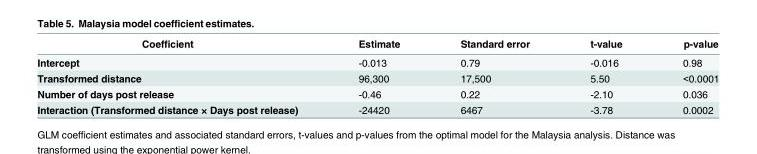table: (36, 37, 718, 115)
table column: (36, 37, 327, 115), (429, 37, 559, 115), (327, 37, 429, 115), (559, 37, 651, 115), (651, 37, 718, 115)
table column header: (36, 37, 718, 52)
table row: (36, 52, 718, 69), (36, 69, 718, 85), (36, 85, 718, 101), (36, 37, 718, 52), (36, 101, 718, 115)
